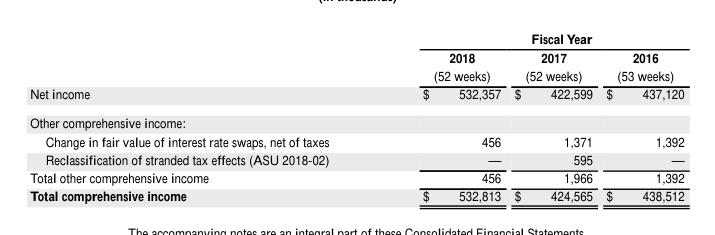table: (29, 28, 683, 204)
table column: (29, 28, 375, 204), (375, 28, 507, 204), (507, 28, 598, 204), (598, 28, 683, 204)
table column header: (29, 28, 683, 84)
table projected row header: (29, 107, 683, 131)
table row: (29, 47, 683, 84), (29, 107, 683, 131), (29, 84, 683, 107), (29, 28, 683, 47), (29, 131, 683, 150), (29, 150, 683, 168), (29, 168, 683, 186), (29, 186, 683, 204)
table spanning cell: (375, 28, 683, 47)
